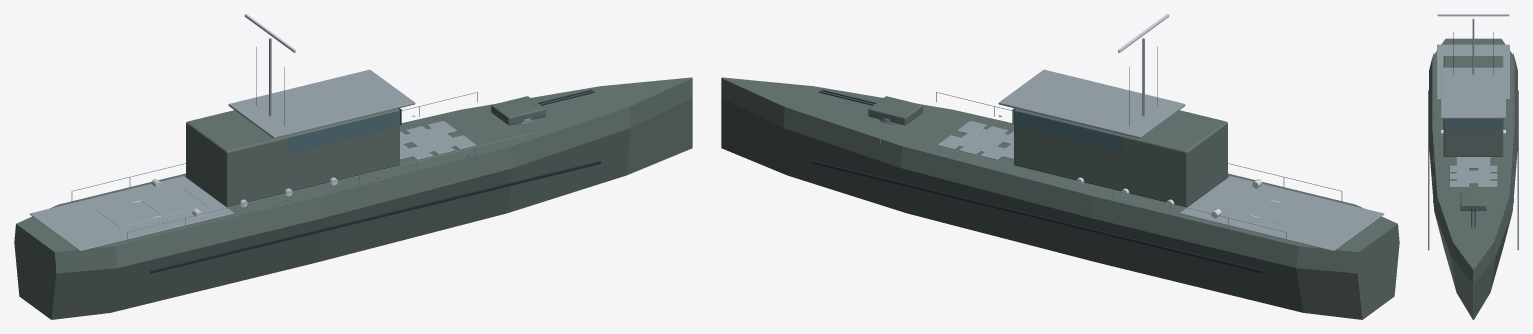
The model's file is NavalDestroyer.fbx.
3 views of the same model, side by side, from view 1: azimuth 30°, elevation 25°; view 2: azimuth 150°, elevation 25°; view 3: azimuth 270°, elevation 25° (orthographic). The views are drawn at different scales.
Parts seen in each view (by area): view 1: Chined seaworthy hull, Bridge roof, Bridge panoramic glazing, Waterline rubbing belt, Gun shield; view 2: Chined seaworthy hull, Bridge roof, Bridge panoramic glazing, Waterline rubbing belt, Gun shield; view 3: Chined seaworthy hull, Bridge roof, Bridge panoramic glazing, Waterline rubbing belt, Gun shield, Radar array, Mast, Whip antenna, Naval barrel.
Part boxes in pixels (x1,y1,x2,y2): Chined seaworthy hull: (14, 77, 692, 319); Bridge roof: (29, 69, 533, 251); Bridge panoramic glazing: (288, 108, 401, 152); Waterline rubbing belt: (150, 161, 600, 273); Gun shield: (491, 96, 545, 125); Chined seaworthy hull: (721, 77, 1399, 319); Bridge roof: (880, 69, 1384, 251); Bridge panoramic glazing: (1012, 108, 1125, 152); Waterline rubbing belt: (813, 161, 1263, 273); Gun shield: (868, 96, 922, 125); Chined seaworthy hull: (1429, 38, 1517, 319); Bridge roof: (1433, 44, 1513, 203); Bridge panoramic glazing: (1443, 119, 1503, 130); Waterline rubbing belt: (1428, 90, 1518, 250); Gun shield: (1460, 192, 1486, 210); Radar array: (1437, 14, 1509, 16); Mast: (1472, 18, 1474, 74); Whip antenna: (1453, 32, 1493, 74); Naval barrel: (1471, 207, 1475, 227).
Size of the model in its own units: 7344 by 2338 by 1214.
